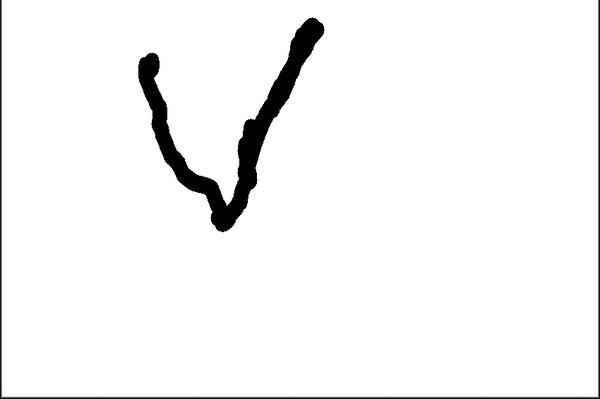V: (127, 10, 364, 235)
